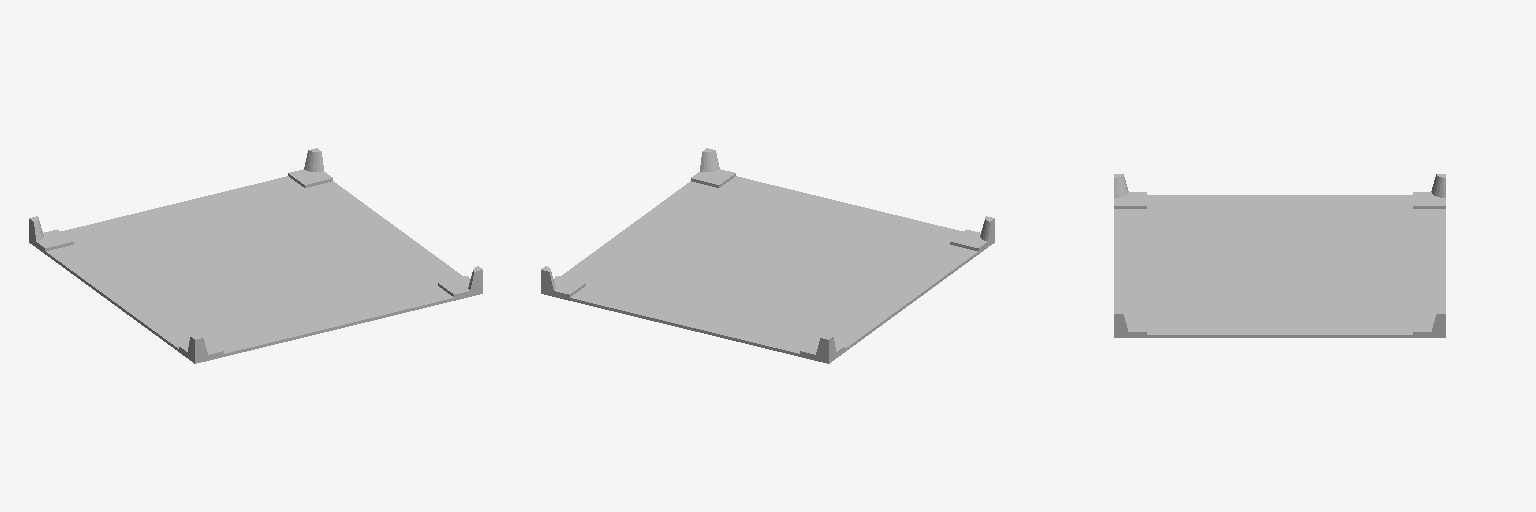
File: city_road_crossing_raised.obj
The picture shows the model from 3 angles: view 1: azimuth 30°, elevation 25°; view 2: azimuth 150°, elevation 25°; view 3: azimuth 270°, elevation 25°; orthographic projection.
Parts seen in each view (by area): view 1: city_road_crossing; view 2: city_road_crossing; view 3: city_road_crossing.
Boxes of the visible parts, <box> form: city_road_crossing: <box>29,148,482,363</box>; city_road_crossing: <box>541,148,994,363</box>; city_road_crossing: <box>1114,174,1445,337</box>.
Size of the model in its own units: 1 by 0.08 by 1.